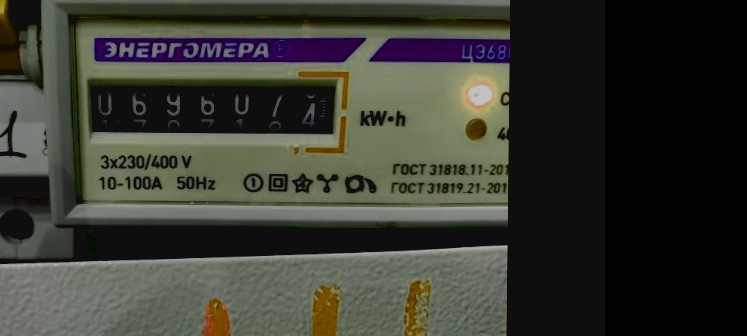0: (95, 87, 115, 116), (231, 88, 251, 115)
4: (299, 101, 318, 129)
6: (198, 87, 217, 116), (129, 89, 148, 116)
7: (266, 88, 286, 118)
9: (163, 89, 182, 117)
screen: (74, 64, 354, 154)
